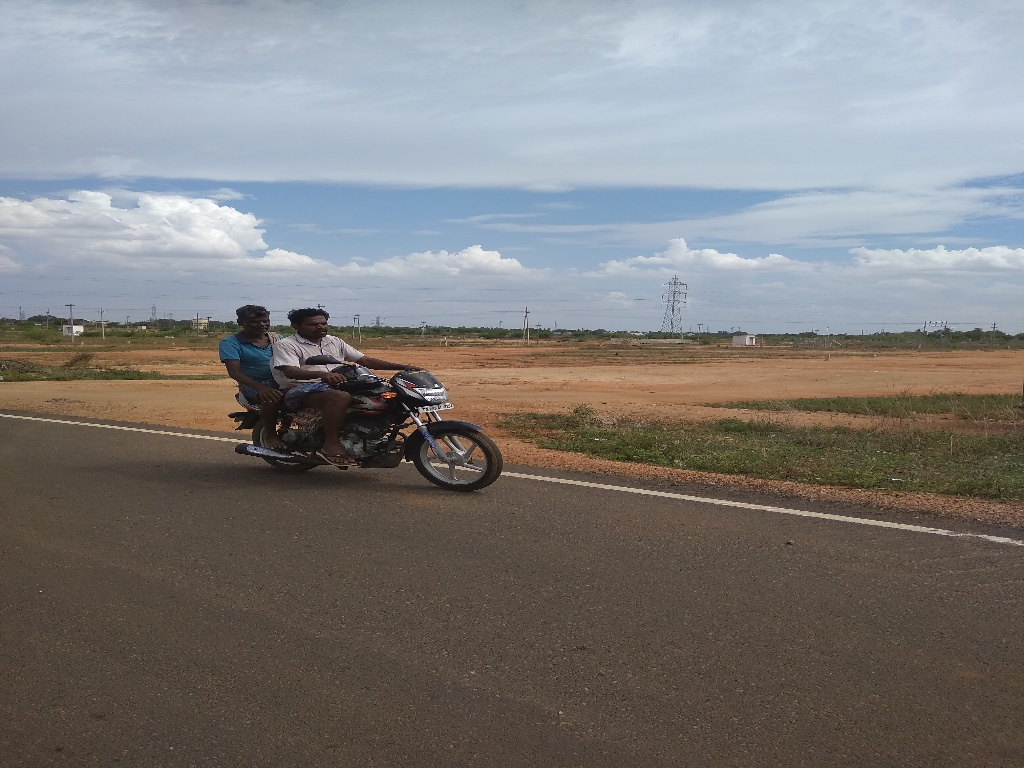biker: (202, 271, 525, 502)
nohelmet: (283, 291, 339, 351), (228, 291, 284, 351)
